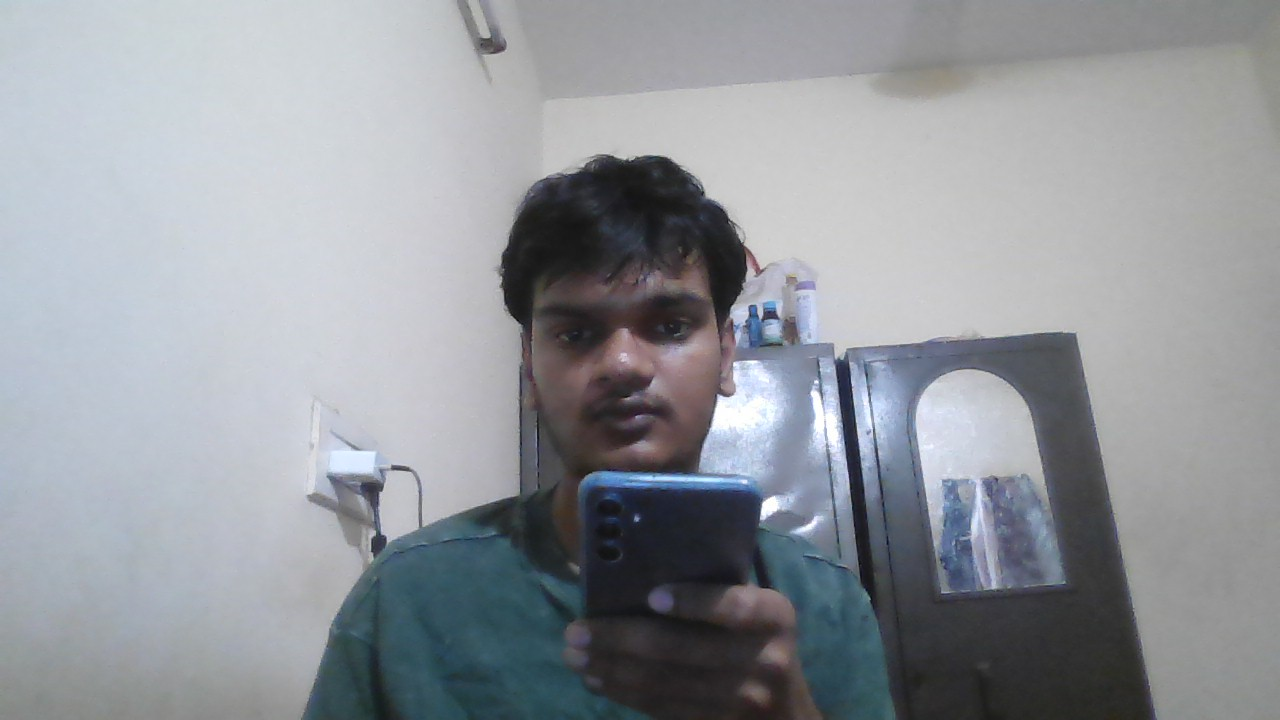phone: (579, 464, 762, 592)
